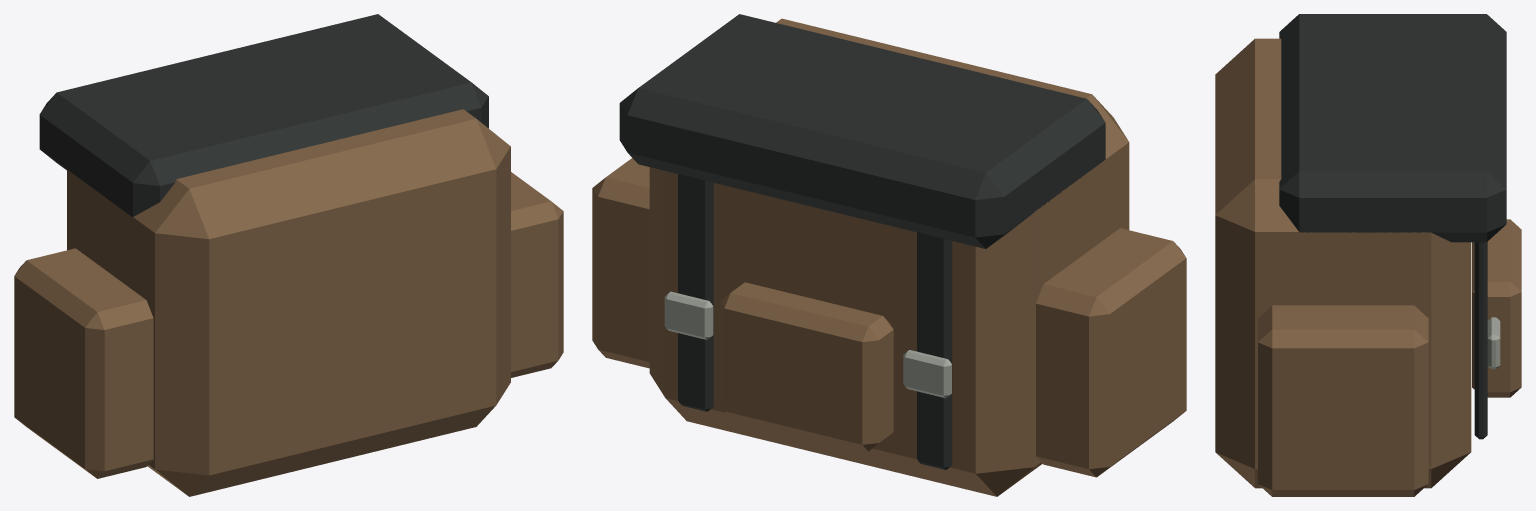
File: pack.glb
3 views of the same model, side by side, from view 1: azimuth 30°, elevation 25°; view 2: azimuth 150°, elevation 25°; view 3: azimuth 270°, elevation 25° (orthographic). The views are drawn at different scales.
Parts seen in each view (by area): view 1: rucksack, flap, side pocket, side pocket.001; view 2: flap, rucksack, side pocket, front pocket, side pocket.001, strap.001, strap, buckle.002, buckle.001; view 3: flap, rucksack, side pocket.001, front pocket, strap.001, buckle.002.
Part boxes in pixels (left/top/right/bottom): rucksack: left=67, top=109, right=510, bottom=496; flap: left=39, top=14, right=488, bottom=217; side pocket: left=14, top=248, right=153, bottom=478; side pocket.001: left=511, top=172, right=563, bottom=377; flap: left=619, top=14, right=1105, bottom=248; rucksack: left=649, top=18, right=1129, bottom=496; side pocket: left=1036, top=228, right=1186, bottom=477; front pocket: left=720, top=282, right=893, bottom=451; side pocket.001: left=592, top=158, right=649, bottom=368; strap.001: left=678, top=174, right=713, bottom=411; strap: left=917, top=232, right=952, bottom=469; buckle.002: left=664, top=291, right=713, bottom=339; buckle.001: left=903, top=350, right=951, bottom=398; flap: left=1279, top=14, right=1506, bottom=242; rucksack: left=1215, top=38, right=1471, bottom=488; side pocket.001: left=1258, top=305, right=1428, bottom=496; front pocket: left=1472, top=219, right=1521, bottom=397; strap.001: left=1474, top=242, right=1487, bottom=439; buckle.002: left=1487, top=317, right=1500, bottom=369.
Size of the model in its own units: 0.39 by 0.2525 by 0.2155.
